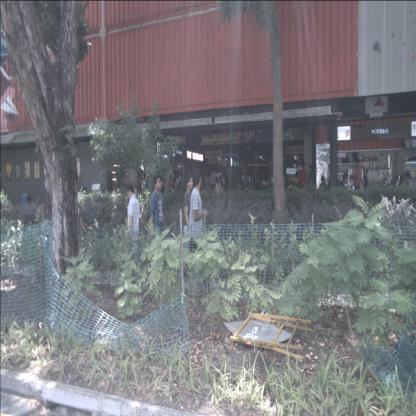human-pedestrian-adult: (187, 167, 208, 304), (149, 175, 167, 280), (178, 172, 194, 282), (126, 182, 140, 286), (349, 156, 361, 219), (400, 172, 415, 218), (287, 170, 299, 216), (299, 160, 307, 213), (307, 163, 315, 215), (339, 172, 348, 218), (318, 174, 328, 214), (360, 174, 370, 214), (212, 177, 223, 213), (209, 166, 217, 212), (242, 167, 250, 208), (203, 169, 210, 210), (170, 177, 177, 210)
